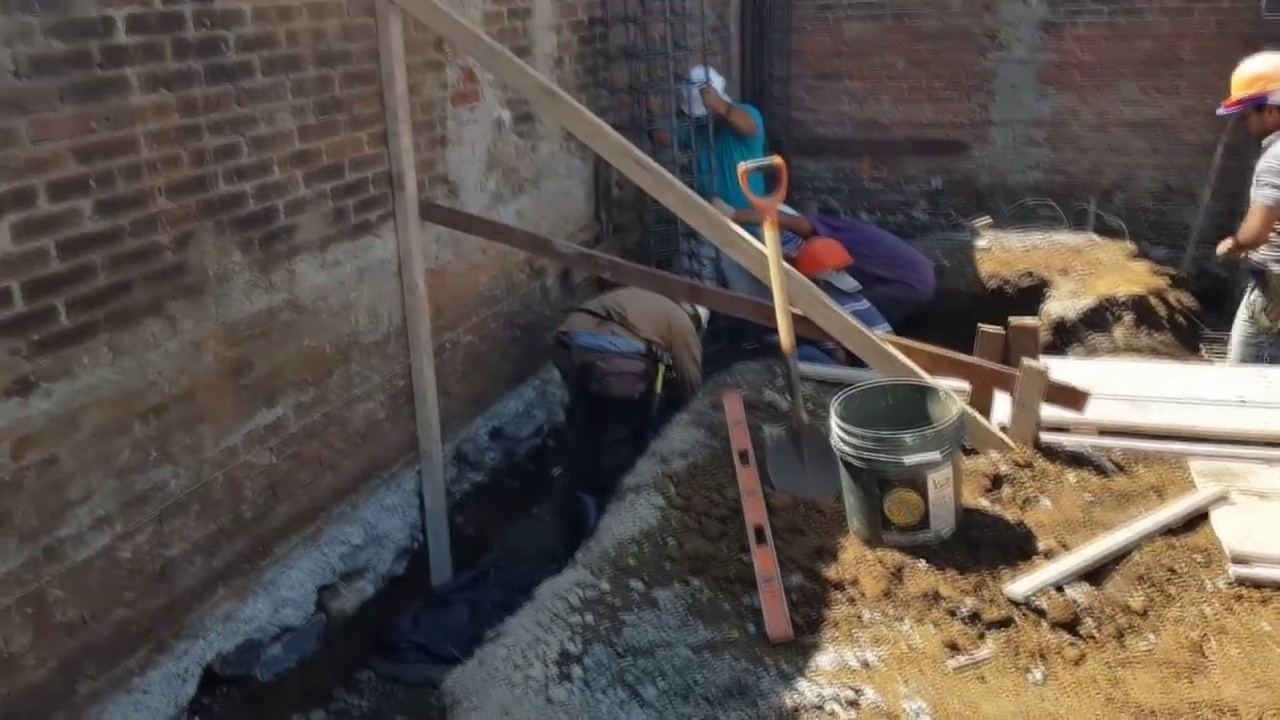helmet: (1224, 53, 1280, 112), (793, 232, 853, 278), (679, 62, 726, 115), (696, 299, 718, 332)
helmet-on: (1217, 49, 1280, 149), (790, 225, 861, 297), (678, 61, 732, 125), (679, 292, 726, 338)
person: (553, 285, 724, 489), (671, 53, 776, 314), (1208, 46, 1280, 369), (770, 203, 938, 318), (790, 216, 895, 372)
